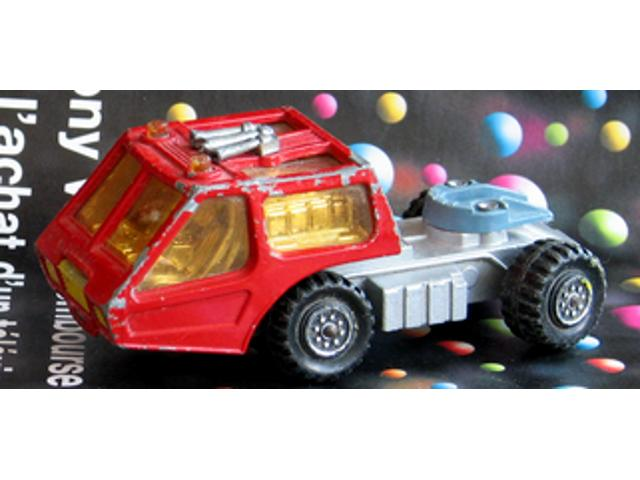toy-car: (29, 101, 610, 389)
